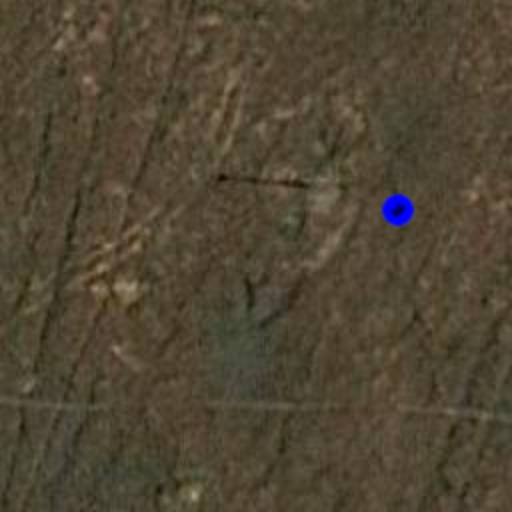circle: (374, 186, 422, 234)
